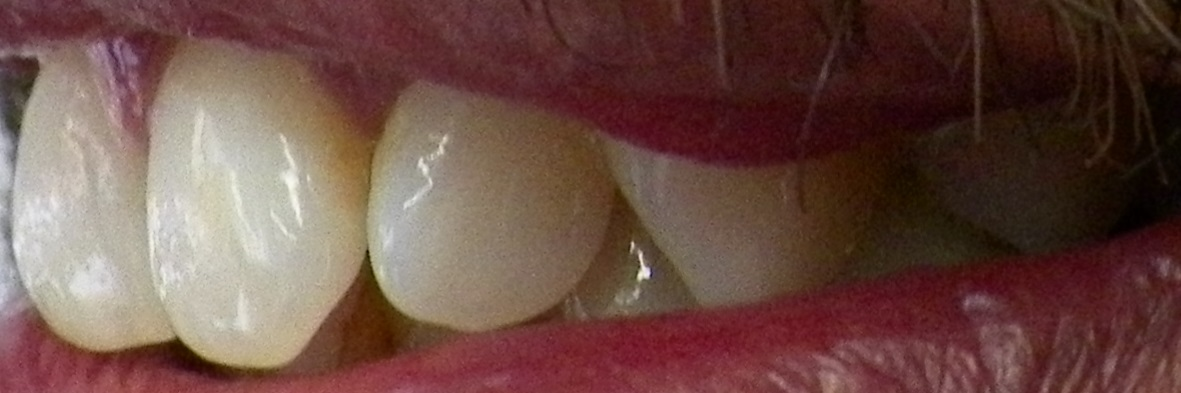boca: (6, 47, 1110, 365)
